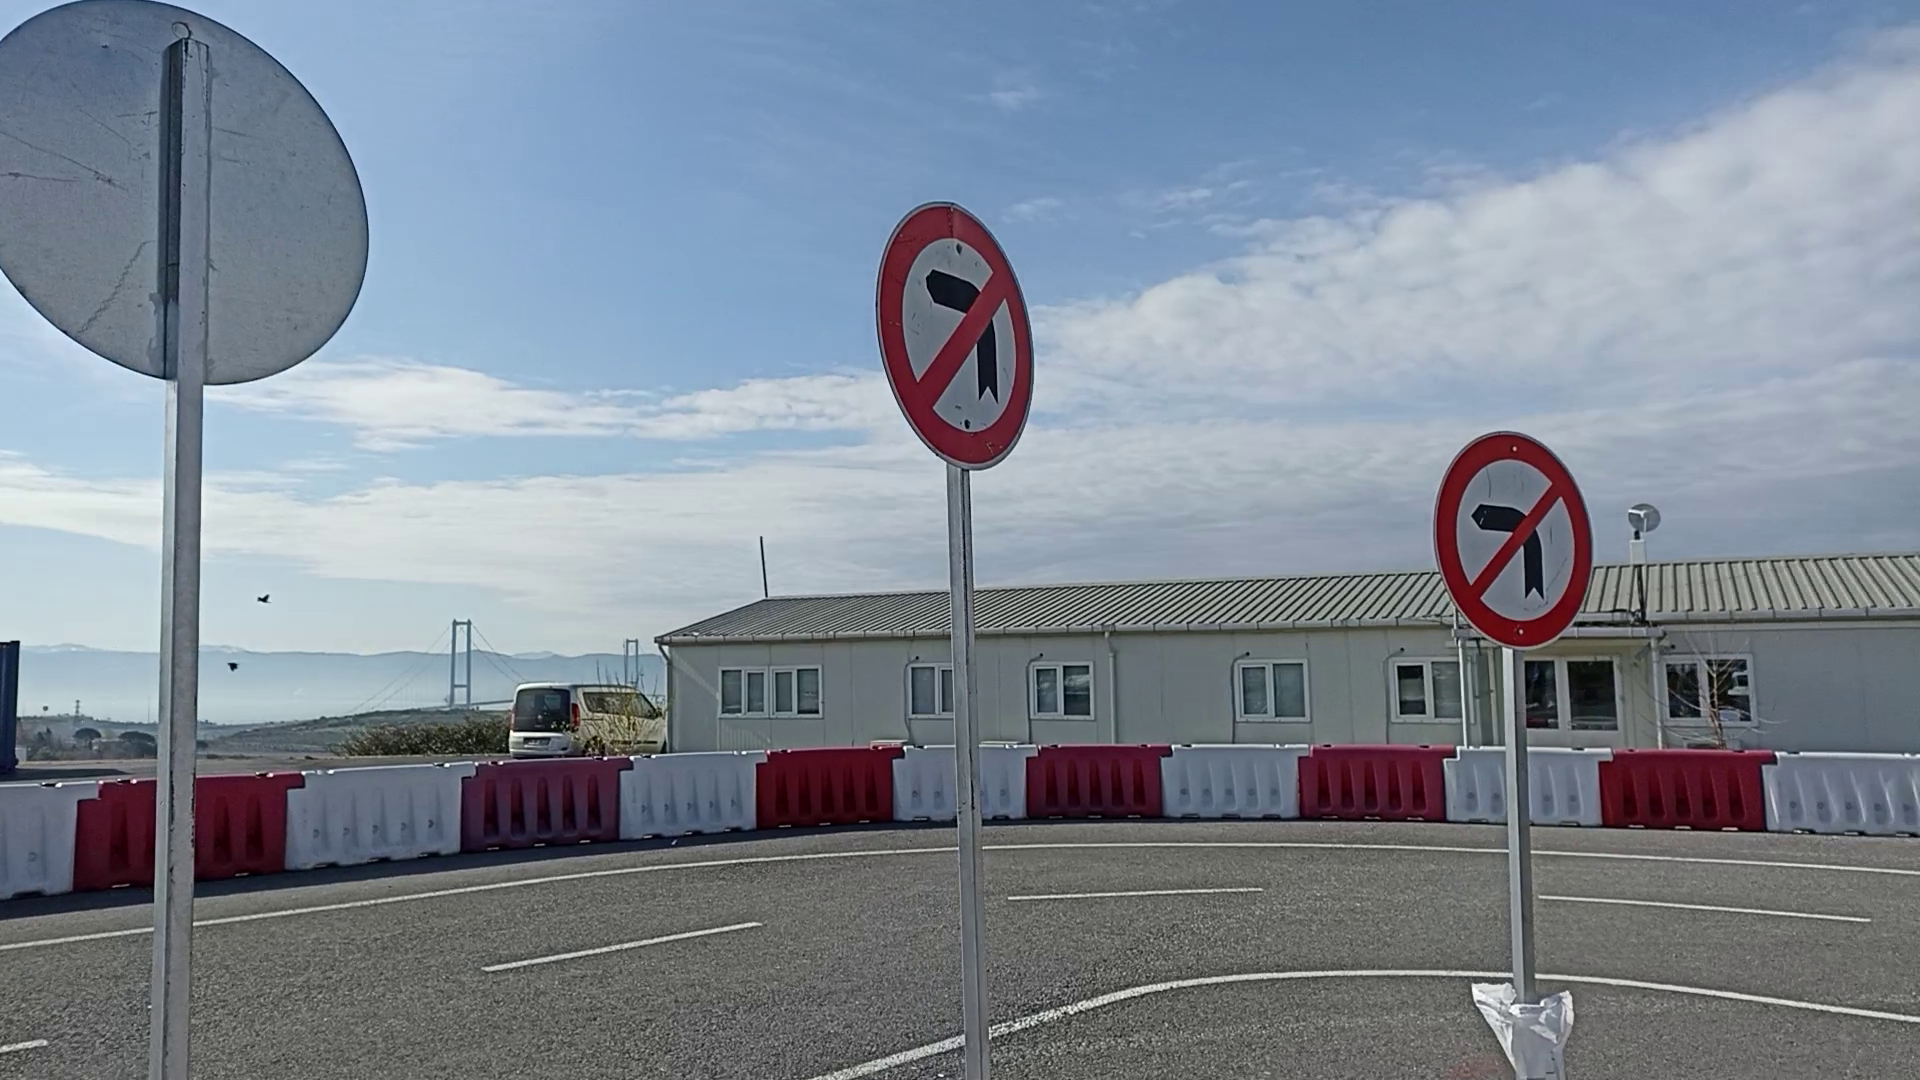noleft: (873, 200, 1038, 472), (1429, 429, 1596, 654)
